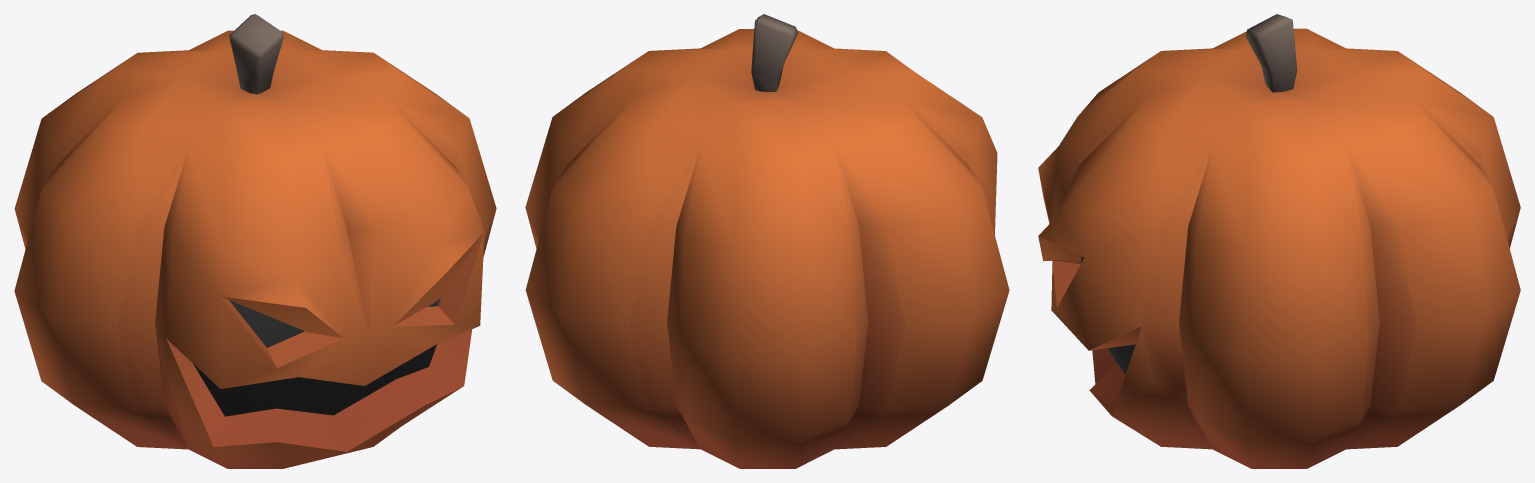
File: pumpkin_orange_jackolantern.obj
The picture shows the model from 3 angles, left to right: view 1: azimuth 30°, elevation 25°; view 2: azimuth 150°, elevation 25°; view 3: azimuth 270°, elevation 25°; orthographic projection.
Parts seen in each view (by area): view 1: pumpkin_orange_jackolantern_Sphere.009; view 2: pumpkin_orange_jackolantern_Sphere.009; view 3: pumpkin_orange_jackolantern_Sphere.009.
Boxes of the visible parts, x1=… form: pumpkin_orange_jackolantern_Sphere.009: x1=14, y1=14, x2=496, y2=468; pumpkin_orange_jackolantern_Sphere.009: x1=525, y1=14, x2=1009, y2=468; pumpkin_orange_jackolantern_Sphere.009: x1=1038, y1=14, x2=1520, y2=468.
Bounding box in the file's own units: 1.5 × 1.3 × 1.4.
Materials: 1 (1 with a texture image).
